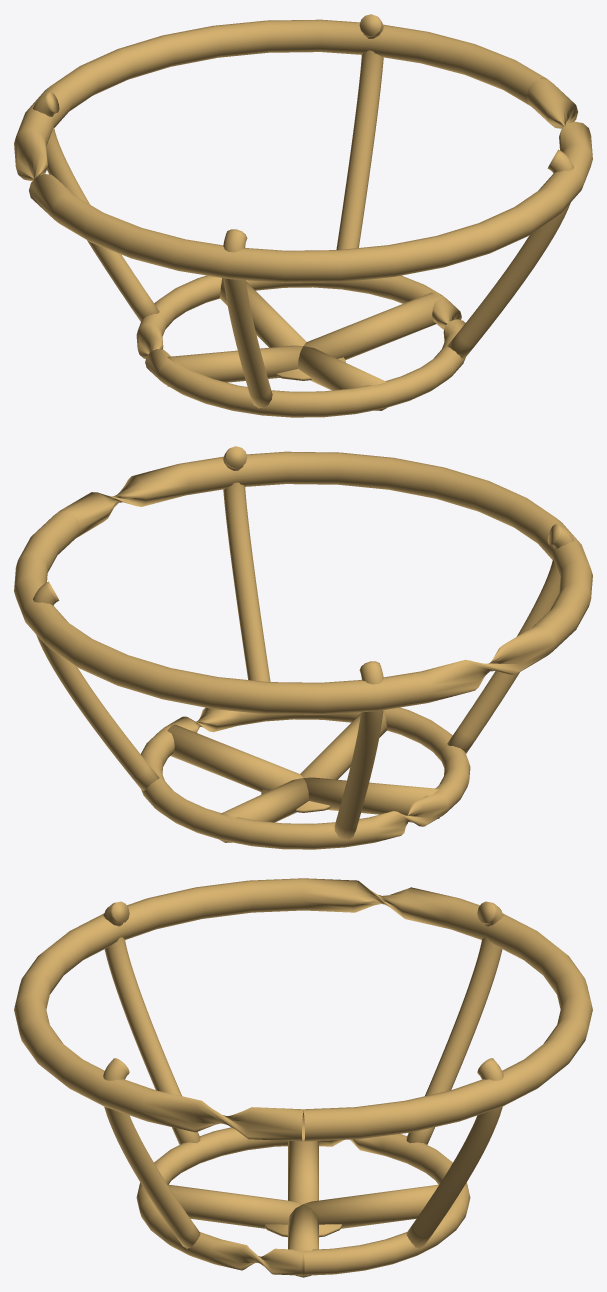
Rendered from demo-round-2-bezel.glb.
3 views of the same model, one above another, from view 1: azimuth 30°, elevation 25°; view 2: azimuth 150°, elevation 25°; view 3: azimuth 270°, elevation 25° (orthographic).
Visible parts, largest first — view 1: Metal.061, Metal.060, Metal.062, Metal.065, Metal.056, Metal.064, Metal.063, Metal.057, Metal.059, Metal.058; view 2: Metal.061, Metal.060, Metal.065, Metal.062, Metal.056, Metal.064, Metal.063, Metal.057, Metal.058, Metal.059; view 3: Metal.061, Metal.060, Metal.063, Metal.064, Metal.062, Metal.065, Metal.058, Metal.059, Metal.057, Metal.056.
Boxes of the visible parts, <box> form: Metal.061: <box>14,19,592,282</box>; Metal.060: <box>136,275,465,417</box>; Metal.062: <box>336,14,383,249</box>; Metal.065: <box>447,149,573,359</box>; Metal.056: <box>304,292,439,359</box>; Metal.064: <box>223,229,272,408</box>; Metal.063: <box>33,92,159,321</box>; Metal.057: <box>167,345,303,386</box>; Metal.059: <box>298,346,386,410</box>; Metal.058: <box>219,278,306,347</box>; Metal.061: <box>14,451,592,714</box>; Metal.060: <box>140,707,470,849</box>; Metal.065: <box>223,446,270,681</box>; Metal.062: <box>33,581,159,791</box>; Metal.056: <box>167,724,302,791</box>; Metal.064: <box>447,524,573,753</box>; Metal.063: <box>334,661,383,840</box>; Metal.057: <box>303,777,439,818</box>; Metal.058: <box>220,778,308,842</box>; Metal.059: <box>300,710,387,779</box>; Metal.061: <box>14,878,592,1141</box>; Metal.060: <box>136,1127,470,1275</box>; Metal.063: <box>406,901,503,1144</box>; Metal.064: <box>103,901,200,1144</box>; Metal.062: <box>406,1058,503,1248</box>; Metal.065: <box>103,1058,200,1248</box>; Metal.058: <box>304,1184,438,1228</box>; Metal.059: <box>168,1184,302,1228</box>; Metal.057: <box>288,1140,318,1203</box>; Metal.056: <box>288,1204,318,1277</box>.
Size of the model in its own units: 8.94 by 4.29 by 8.94.
